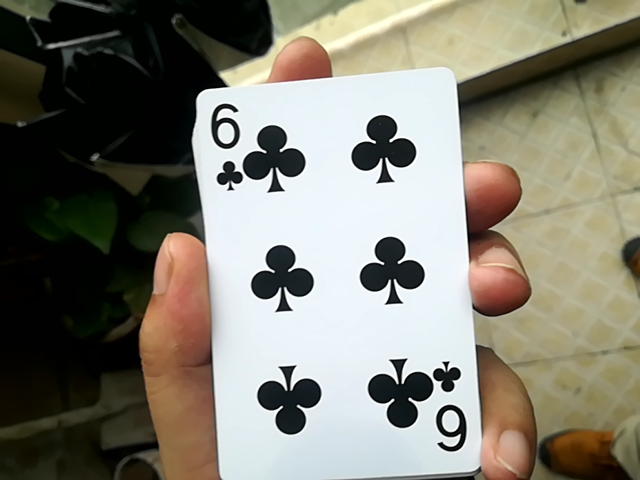mh 6: (179, 61, 480, 472)
